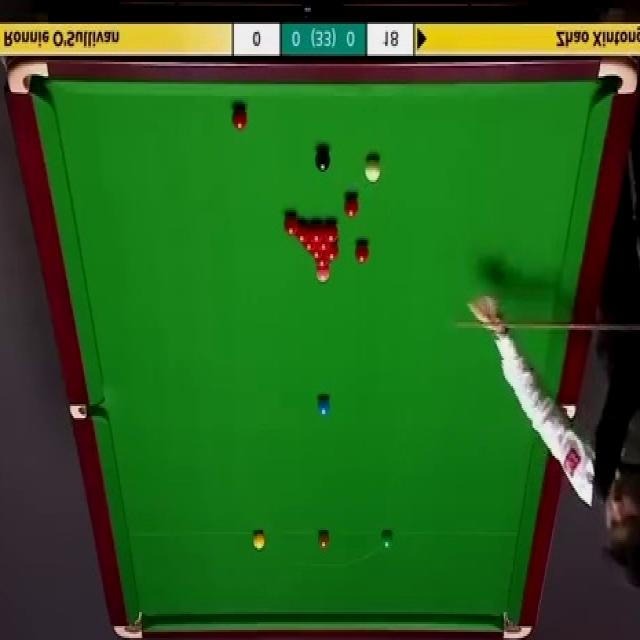pocket: (595, 57, 638, 98), (7, 60, 50, 94), (502, 612, 530, 640), (114, 611, 143, 638), (71, 400, 104, 420)
